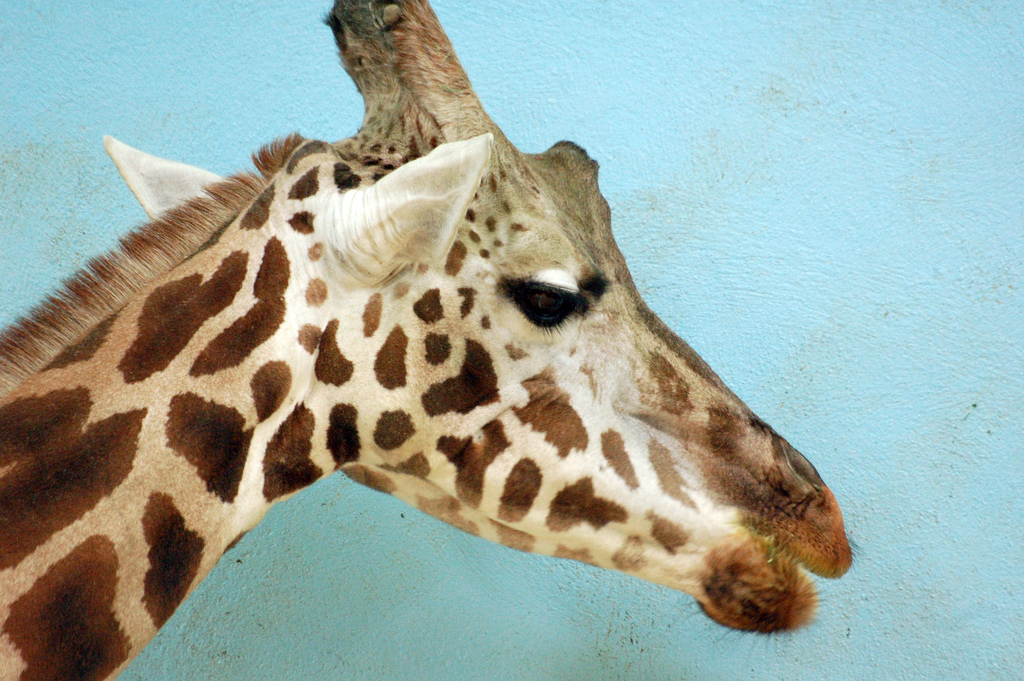giraffe: (46, 26, 849, 640)
